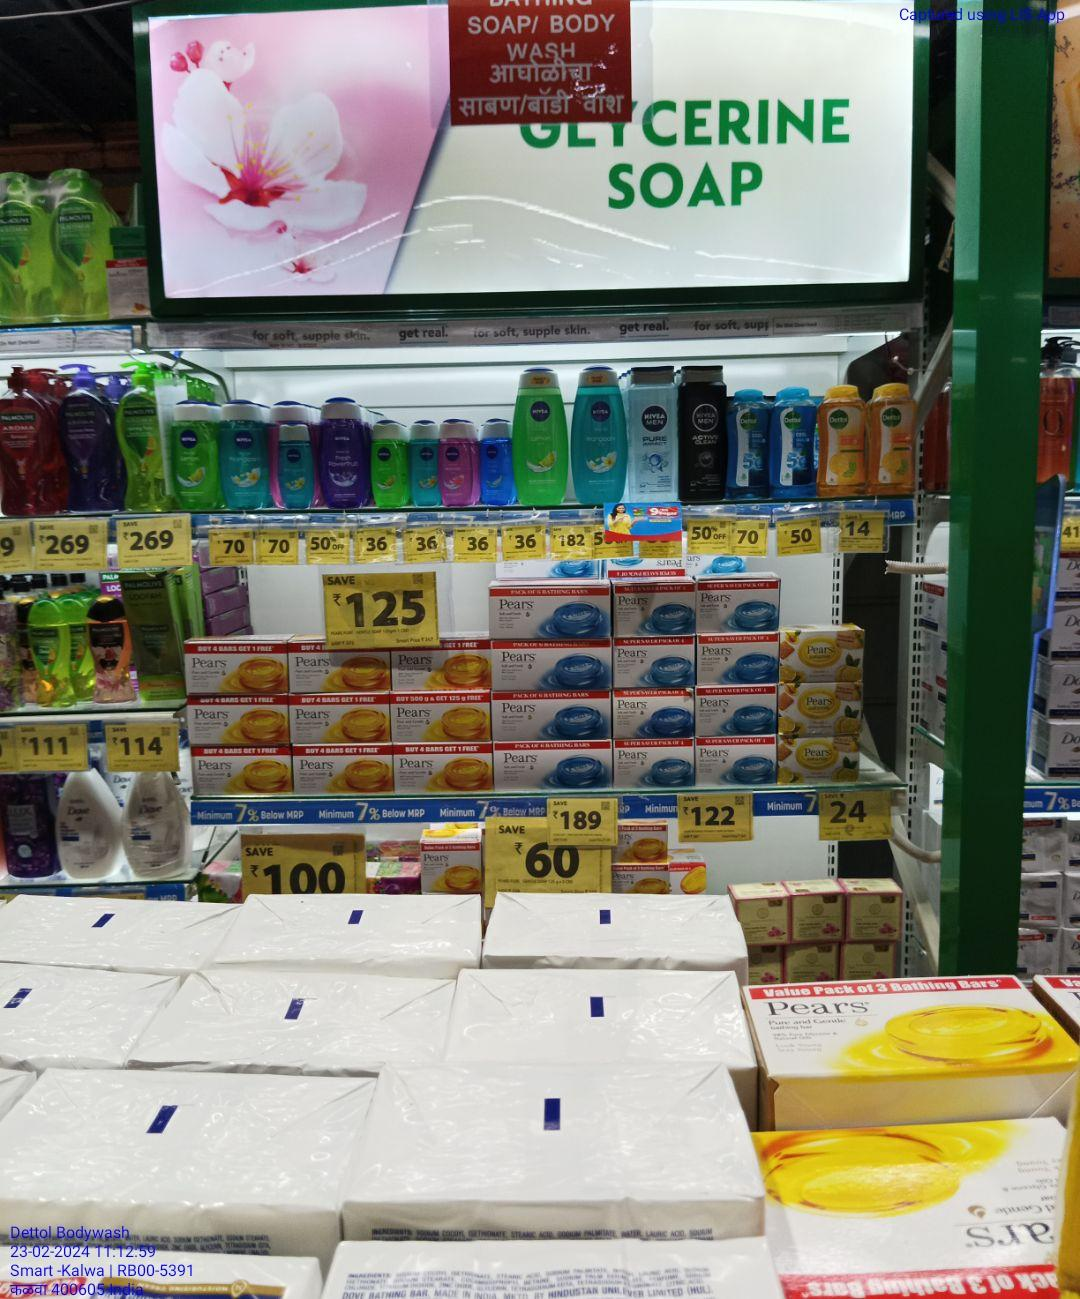Dettol_Bodywash_Cool: (770, 385, 816, 495), (730, 386, 770, 500)
Dettol_Bodywash_Refresh: (867, 383, 918, 496), (818, 386, 865, 498)
Nivea_Shower_Gel_Frangipani_and_Oil_250ML: (573, 367, 627, 504), (220, 402, 264, 510)
Nivea_Shower_Gel_Fresh_Powerfruit_250ML: (317, 394, 369, 508)
Nivea_Shower_Gel_Lemon_and_Oil_250ML: (514, 363, 566, 505), (172, 399, 218, 511)
